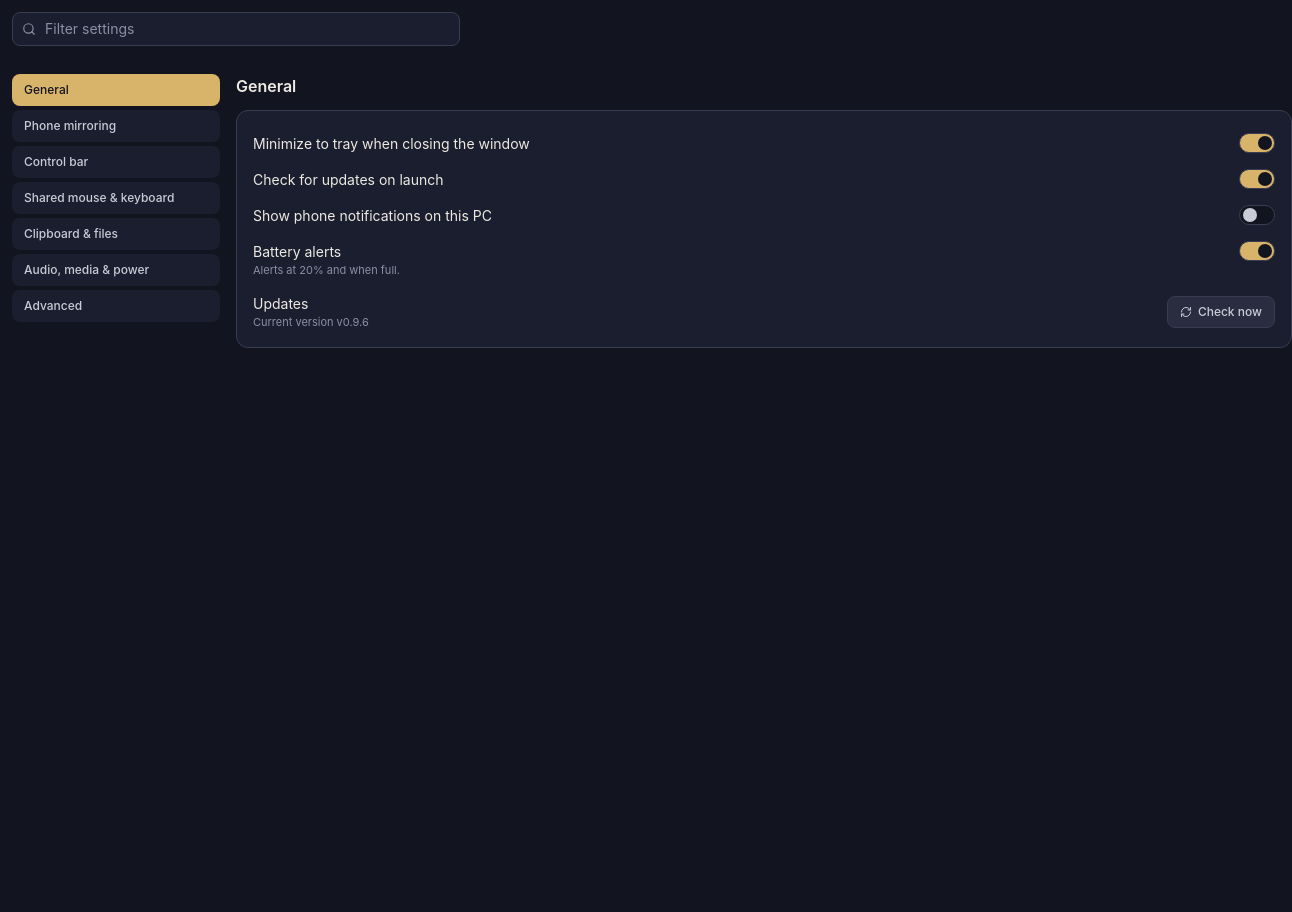
Test case: SettingsPanel rail and filter (SPEC-28 phase 2) › opening a section sets aria-current and focuses its heading
The image size is (1292, 912).
Click the button "Clipboard & files".
click(116, 234)  # box [12, 218, 220, 250]
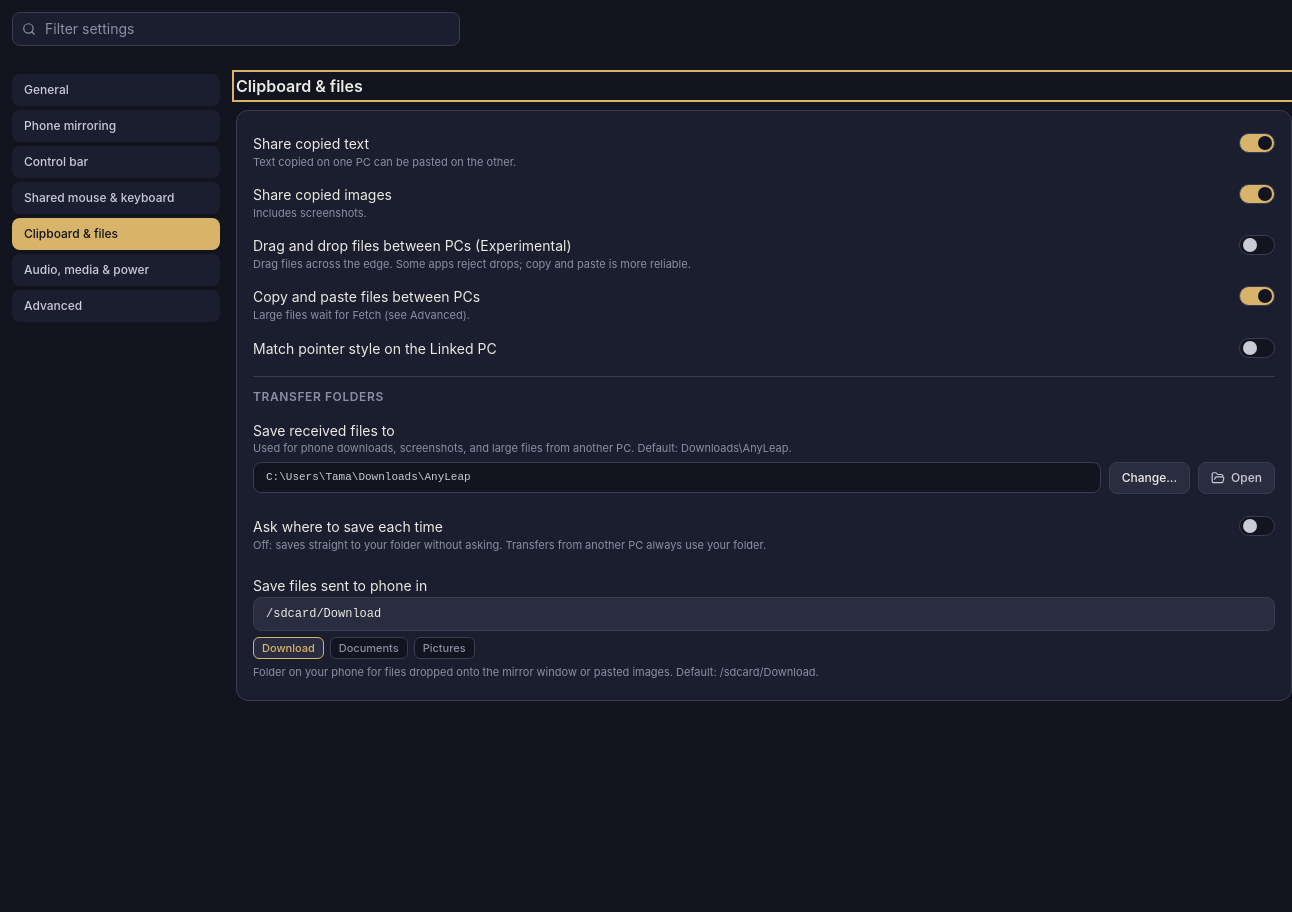
Check: the heading "Clipboard & files" is shown, box [236, 76, 363, 96]
